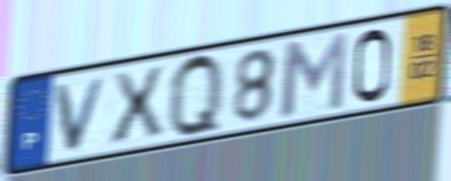0: (352, 25, 393, 106)
8: (230, 45, 279, 126)
M: (279, 29, 350, 121)
Q: (167, 49, 225, 140)
V: (53, 72, 112, 155)
X: (108, 62, 167, 148)
